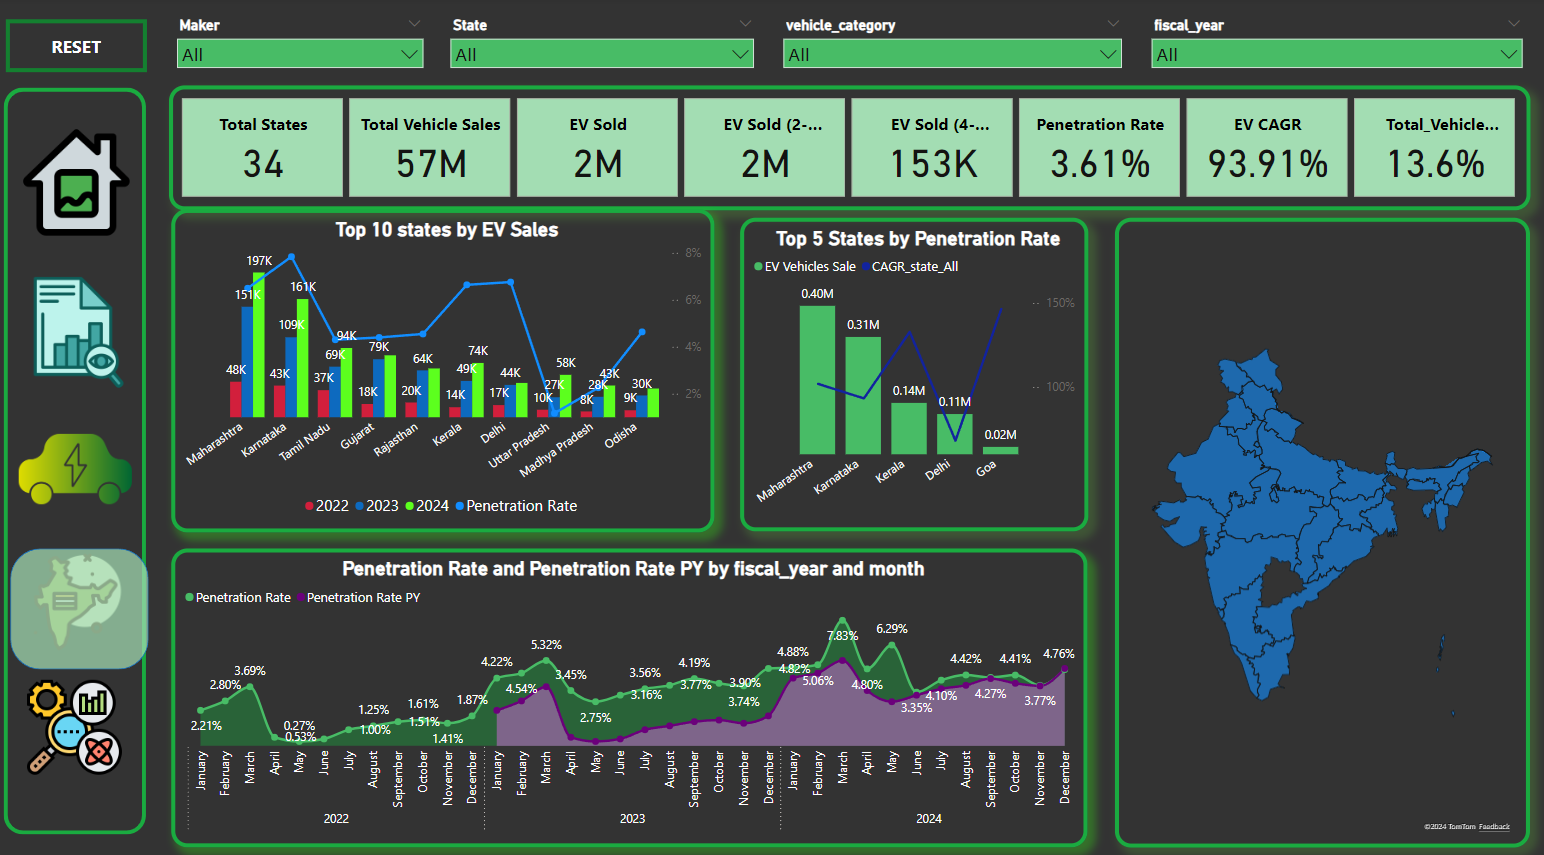

Layout of this report page (visuals, bound fields, positions):
{"tool":"powerbi","page":{"name":"State View","canvas":[1920,1080],"ordinal":3},"visuals":[{"type":"cardVisual","fields":{"Data":["KeyMeasures.Total States","KeyMeasures.Total Vehicle Sales","KeyMeasures.EV_vehicle_sold_state","KeyMeasures.EV_sold for 2-Wheelers(State)","KeyMeasures.EV_sold for 4-Wheelers(State)","KeyMeasures.Penetration Rate","KeyMeasures.CAGR_state_All","KeyMeasures.CAGR_state_Total_Vehicle"]},"box":[224.4,110.6,1675.1,153.7],"z":0},{"type":"lineStackedColumnComboChart","title":"Top 5 States by Penetration Rate","fields":{"Category":["dim_state.State"],"Y":["KeyMeasures.EV_vehicle_sold_state"],"Y2":["KeyMeasures.CAGR_state_All"]},"box":[927,273.5,428.6,386],"z":1000},{"type":"slicer","fields":{"Values":["dim_date.fiscal_year"]},"box":[1423,21.5,476.4,83],"z":2000},{"type":"slicer","fields":{"Values":["dim_vechicle.vehicle_category"]},"box":[971.2,21.5,436.4,83],"z":3000},{"type":"shape","box":[21.5,113.7,175.2,919],"z":4000},{"type":"image","box":[29.8,160.1,162.8,141.1],"z":5000},{"type":"image","box":[35.3,507.3,149.2,151.9],"z":6000},{"type":"image","box":[24.3,665.6,176.3,164.1],"z":7000},{"type":"image","box":[30.4,835.8,158,130.7],"z":8000},{"type":"shape","box":[30.4,680.8,170.2,148.9],"z":9000},{"type":"slicer","fields":{"Values":["dim_makers.Maker"]},"box":[224.4,21.5,322.7,83],"z":10000},{"type":"slicer","fields":{"Values":["dim_state.State"]},"box":[562.5,21.5,393.4,83],"z":11000},{"type":"lineClusteredColumnComboChart","title":"Top 10 states by EV Sales","fields":{"Category":["dim_state.State"],"Series":["dim_date.fiscal_year"],"Y":["KeyMeasures.EV_vehicle_sold_state"],"Y2":["KeyMeasures.Penetration Rate"]},"box":[228,264.4,668.7,398.2],"z":12000},{"type":"areaChart","fields":{"Y":["KeyMeasures.Penetration Rate","KeyMeasures.Penetration Rate PY"],"Category":["dim_date.fiscal_year","dim_date.month"]},"box":[228,680.8,1127.6,367.8],"z":13000},{"type":"azureMap","fields":{"Category":["dim_state.State"]},"box":[1389,273.5,510.6,775],"z":14000},{"type":"image","box":[40.7,336.4,146.5,157.4],"z":15000},{"type":"actionButton","title":"RESET","box":[24.4,29.8,173.6,65.1],"z":16000}]}

Visuals, with their boxes in screenshot pixels (x1, y1, x2, y2), scaled from the page's 1920x1080 canvas onto the 1544x855 screenshot:
cardVisual - KeyMeasures.Total States x KeyMeasures.Total Vehicle Sales: left=180, top=88, right=1528, bottom=209
"Top 5 States by Penetration Rate" lineStackedColumnComboChart: left=745, top=217, right=1090, bottom=522
slicer - dim_date.fiscal_year: left=1144, top=17, right=1527, bottom=83
slicer - dim_vechicle.vehicle_category: left=781, top=17, right=1132, bottom=83
shape: left=17, top=90, right=158, bottom=818
image: left=24, top=127, right=155, bottom=238
image: left=28, top=402, right=148, bottom=522
image: left=20, top=527, right=161, bottom=657
image: left=24, top=662, right=152, bottom=765
shape: left=24, top=539, right=161, bottom=657
slicer - dim_makers.Maker: left=180, top=17, right=440, bottom=83
slicer - dim_state.State: left=452, top=17, right=769, bottom=83
"Top 10 states by EV Sales" lineClusteredColumnComboChart: left=183, top=209, right=721, bottom=525
areaChart - KeyMeasures.Penetration Rate x KeyMeasures.Penetration Rate PY: left=183, top=539, right=1090, bottom=830
azureMap - dim_state.State: left=1117, top=217, right=1528, bottom=830
image: left=33, top=266, right=151, bottom=391
"RESET" actionButton: left=20, top=24, right=159, bottom=75
